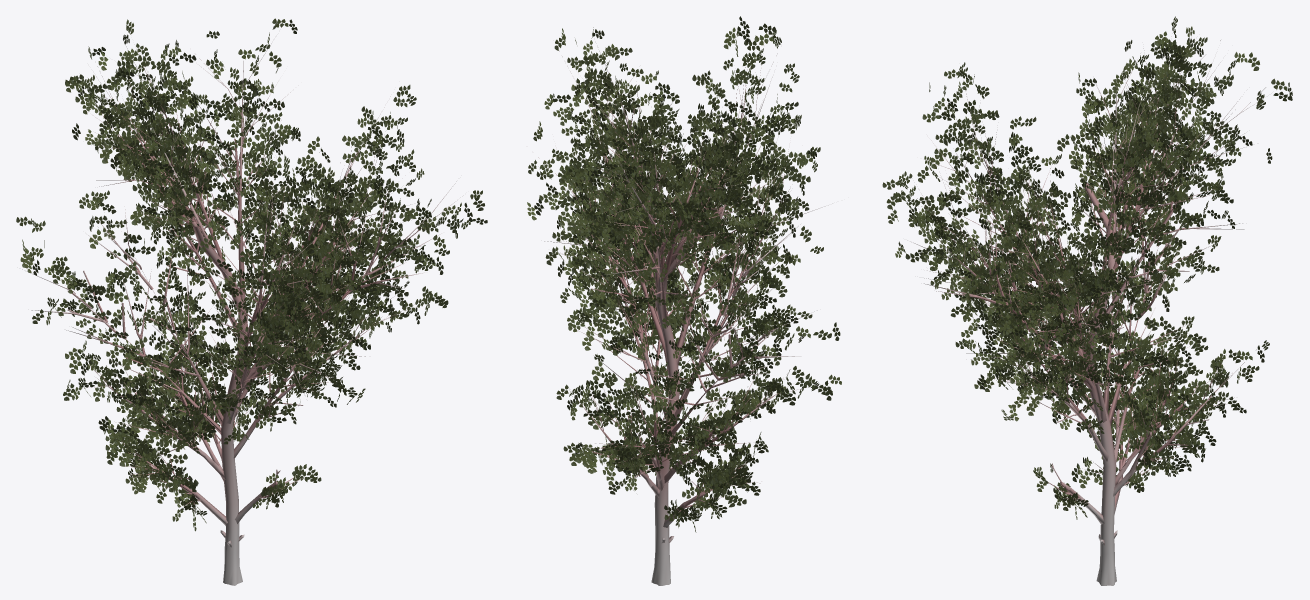
File: BlackCW_Rand_mdl.fbx
The picture shows the model from 3 angles, left to right: view 1: azimuth 30°, elevation 25°; view 2: azimuth 150°, elevation 25°; view 3: azimuth 270°, elevation 25°; orthographic projection.
Visible parts, largest first — view 1: BlackCW_Rand_LOD0; view 2: BlackCW_Rand_LOD0; view 3: BlackCW_Rand_LOD0.
Boxes of the visible parts, x1,y1,x2,y2 form: BlackCW_Rand_LOD0: (16, 18, 487, 585); BlackCW_Rand_LOD0: (527, 16, 841, 585); BlackCW_Rand_LOD0: (882, 16, 1292, 585).
Bounding box in the file's own units: 1479 × 2124 × 1476.
